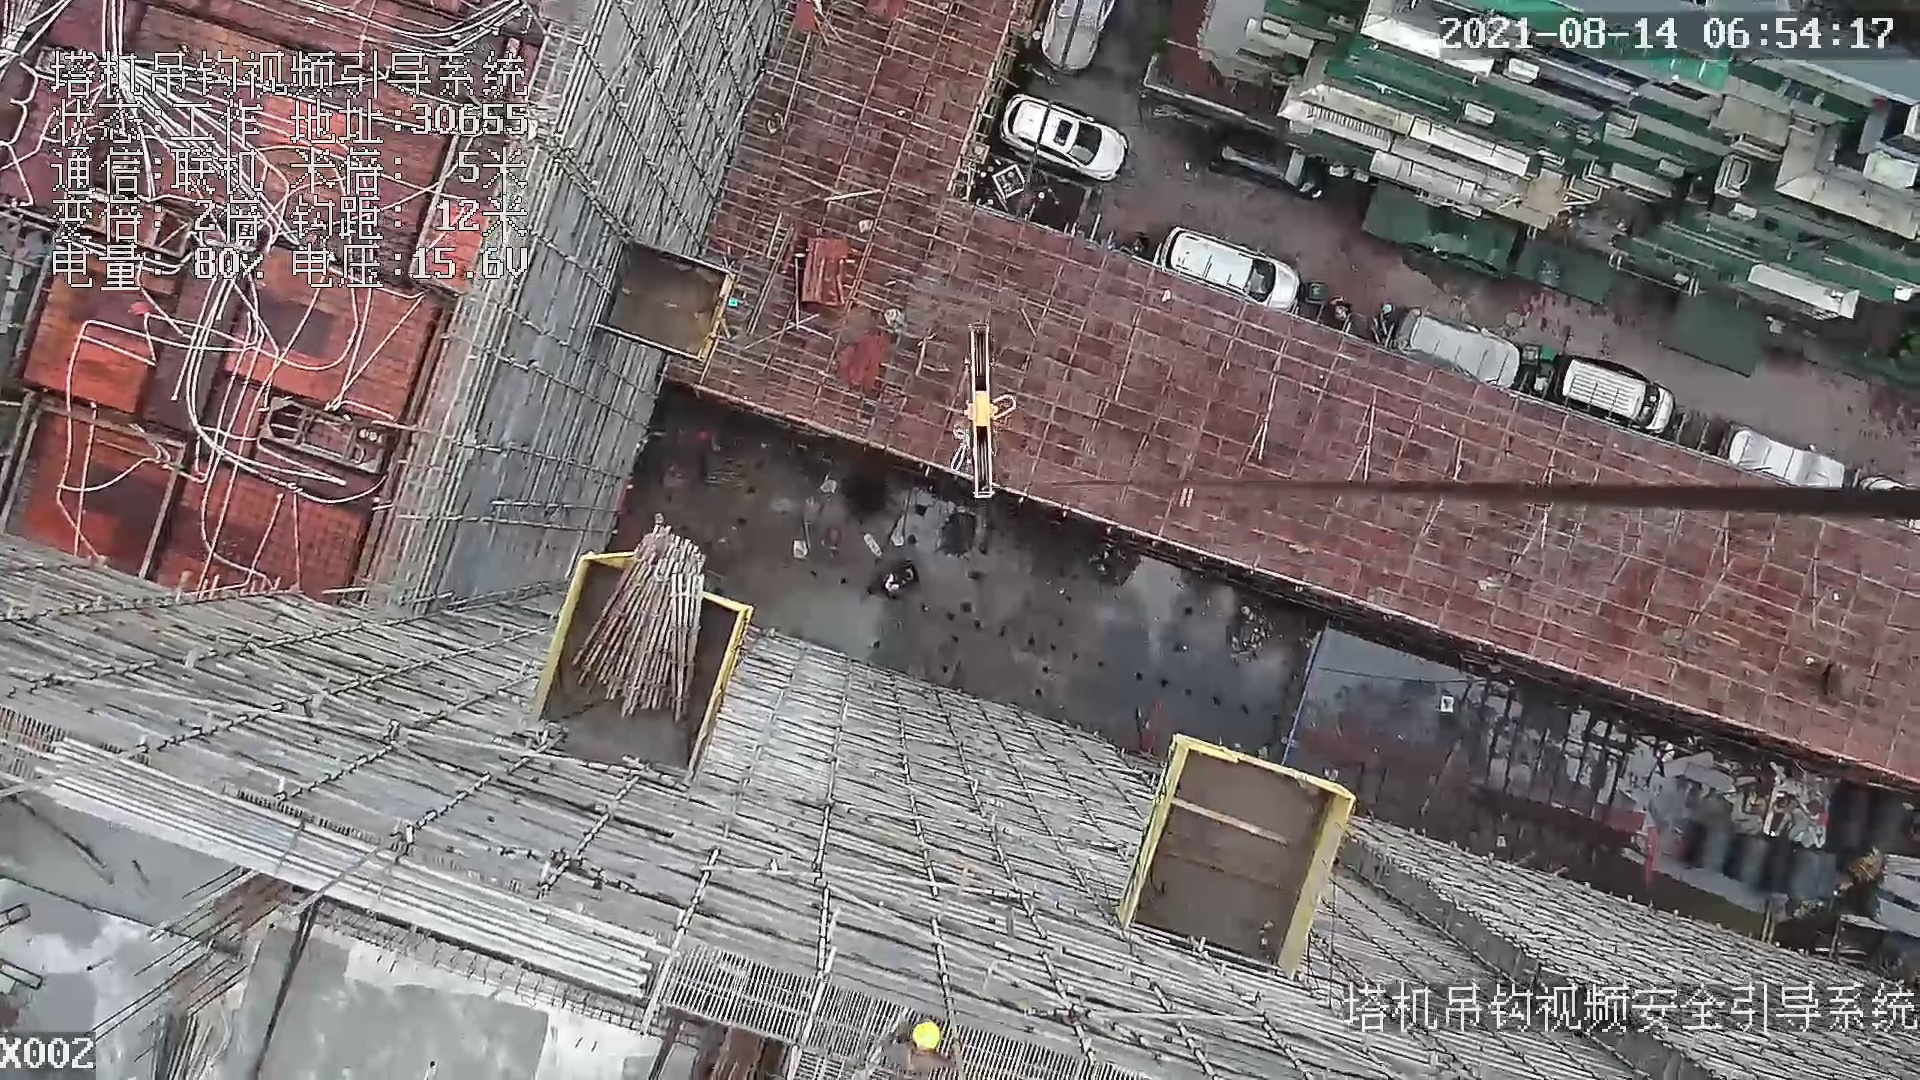helmet: (913, 1021, 939, 1049)
hook: (949, 326, 1019, 517)
person: (883, 1017, 967, 1080)
rebar: (31, 738, 652, 1000)
scaffold: (572, 525, 706, 721)
